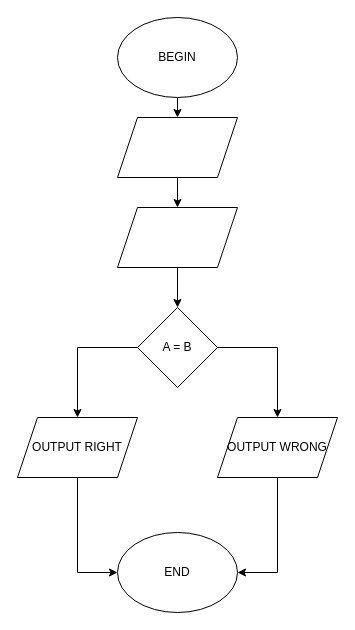
Image size: 355x630. Some labels were removed from this diagram. The shapes that lost their labels are listed below. From the top down, each one's centre as x and y in pixels, then its label:
At [177,147]: "INPUT A random number 0-9".
At [177,237]: "INPUT B".
